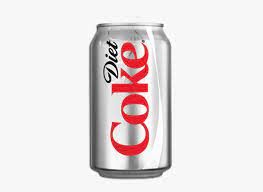can: (83, 19, 179, 184)
